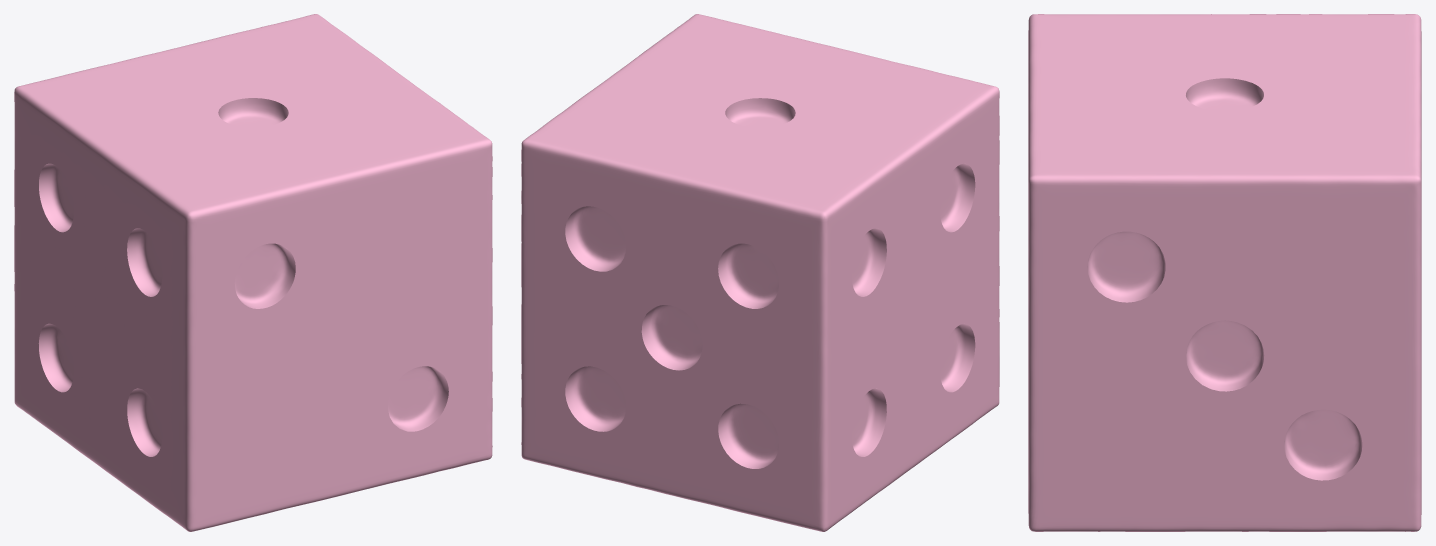
File: cube_crys2_bake.glb
3 renders of one model, left to right at view 1: azimuth 30°, elevation 25°; view 2: azimuth 150°, elevation 25°; view 3: azimuth 270°, elevation 25°, orthographic. The views are drawn at different scales.
Parts seen in each view (by area): view 1: Retopo_Cube.crys_Baked; view 2: Retopo_Cube.crys_Baked; view 3: Retopo_Cube.crys_Baked.
Part boxes in pixels (x1,y1,x2,y2): Retopo_Cube.crys_Baked: (14,14,492,531); Retopo_Cube.crys_Baked: (521,14,999,531); Retopo_Cube.crys_Baked: (1028,14,1421,531).
Bounding box in the file's own units: 2 × 2 × 2.
Materials: 1 (1 with a texture image).
